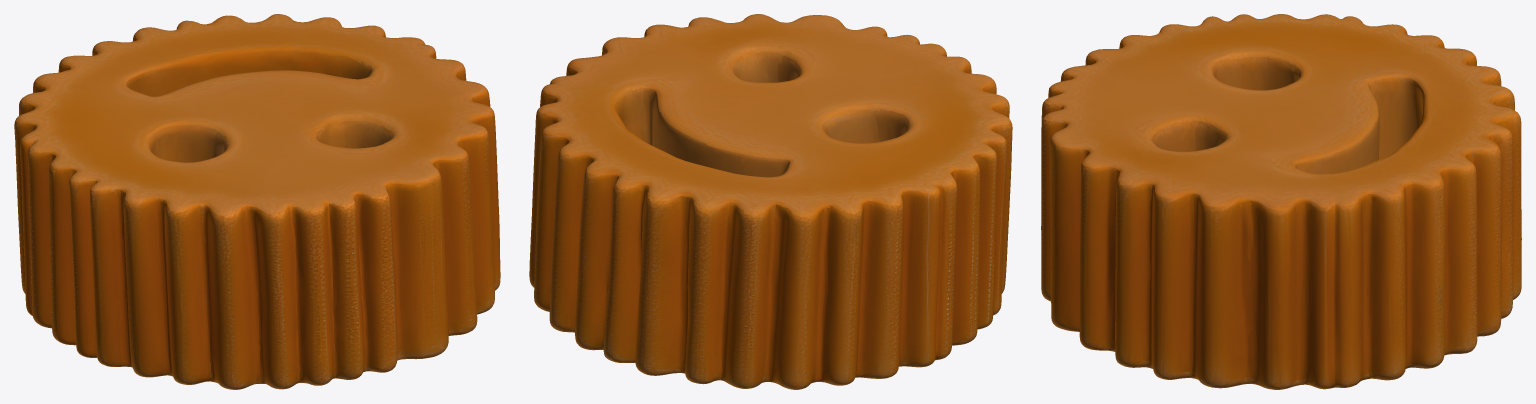
Rendered from iter_0.glb.
3 renders of one model, left to right at view 1: azimuth 30°, elevation 25°; view 2: azimuth 150°, elevation 25°; view 3: azimuth 270°, elevation 25°, orthographic.
Visible parts, largest first — view 1: textured_mesh; view 2: textured_mesh; view 3: textured_mesh.
Boxes of the visible parts, bbox=[...] form: textured_mesh: bbox=[14, 14, 500, 389]; textured_mesh: bbox=[529, 14, 1012, 389]; textured_mesh: bbox=[1041, 14, 1521, 389].
Size of the model in its own units: 1.98 by 0.8526 by 1.96.
Materials: 1 (1 with a texture image).
